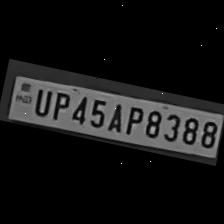3: (158, 108, 182, 143)
4: (66, 90, 90, 126)
5: (84, 94, 109, 130)
8: (139, 105, 164, 140), (194, 116, 219, 150), (177, 113, 201, 146)
A: (104, 99, 127, 134)
P: (120, 101, 144, 136), (48, 88, 72, 122)
U: (28, 83, 54, 117)
